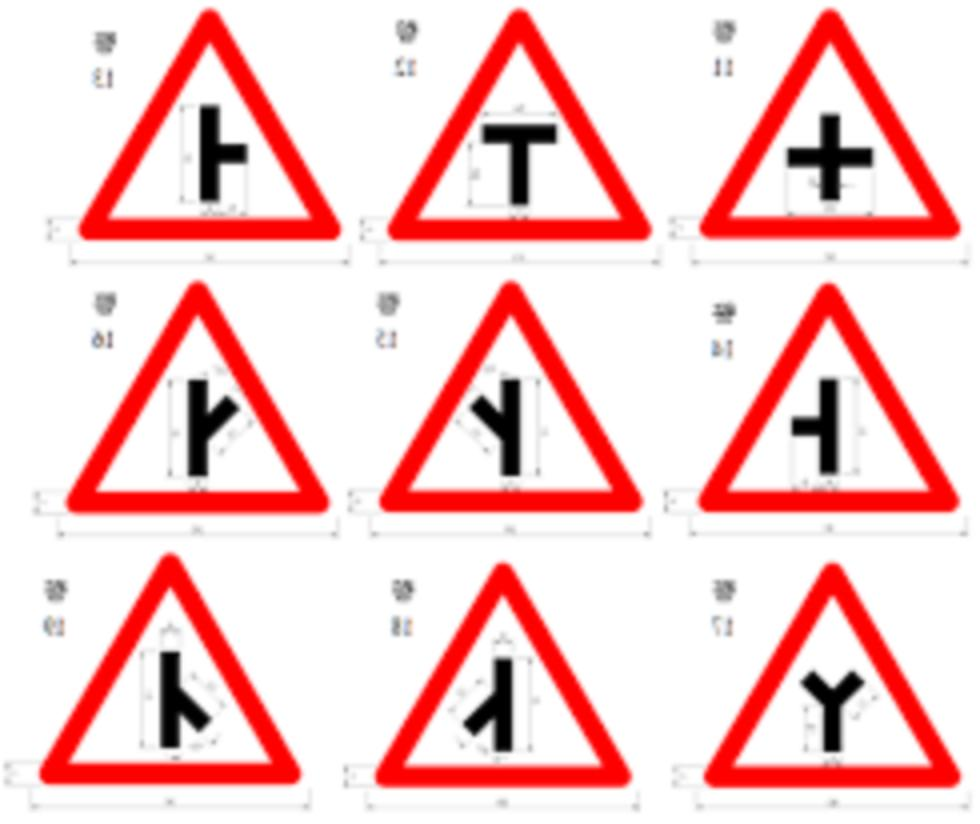fork_road: (52, 2, 359, 255), (55, 271, 344, 519), (689, 545, 964, 800), (695, 274, 968, 524), (46, 539, 311, 794), (693, 1, 961, 249), (387, 4, 660, 245), (368, 559, 652, 790), (376, 276, 646, 515)
